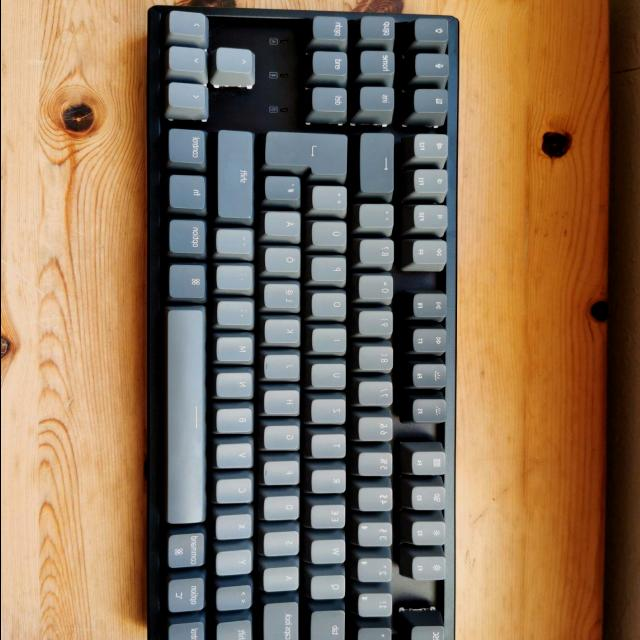0: (359, 275, 396, 303)
1: (359, 594, 395, 619)
2: (358, 559, 394, 585)
3: (359, 523, 395, 549)
4: (360, 488, 395, 513)
5: (359, 453, 395, 478)
6: (360, 417, 396, 443)
7: (359, 381, 395, 407)
8: (360, 347, 396, 373)
9: (360, 311, 396, 339)
a: (264, 568, 302, 594)
accent: (361, 205, 397, 231)
ae: (266, 213, 304, 240)
alt-left: (168, 577, 207, 615)
altgr-right: (167, 217, 206, 255)
b: (218, 409, 256, 436)
c: (218, 480, 256, 506)
caret: (359, 629, 394, 640)
comma: (218, 302, 257, 330)
d: (265, 497, 303, 523)
del: (361, 135, 397, 197)
e: (312, 505, 349, 531)
enter: (266, 133, 352, 179)
f: (265, 462, 303, 487)
g: (265, 426, 303, 452)
h: (265, 390, 303, 418)
hash: (266, 178, 304, 204)
i: (313, 329, 350, 356)
j: (265, 355, 303, 383)
k: (265, 319, 303, 347)
keyboard: (140, 2, 463, 640)
l: (264, 284, 303, 312)
less: (218, 586, 255, 613)
m: (217, 337, 256, 365)
minus: (217, 231, 257, 259)
n: (218, 373, 256, 401)
o: (312, 293, 350, 321)
oe: (266, 248, 304, 276)
p: (312, 258, 350, 286)
plus: (313, 187, 351, 215)
point: (218, 266, 256, 294)
q: (312, 576, 349, 602)
r: (313, 471, 349, 495)
s: (265, 532, 302, 558)
shift-left: (218, 621, 255, 640)
shift-lock: (264, 603, 302, 640)
shift-right: (219, 131, 257, 226)
space: (167, 309, 209, 529)
ss: (361, 240, 397, 268)
strg-left: (170, 622, 208, 640)
strg-right: (170, 129, 208, 169)
t: (312, 435, 349, 461)
tab: (312, 611, 348, 640)
u: (312, 364, 350, 391)
ue: (312, 222, 350, 250)
v: (218, 444, 256, 470)
w: (312, 541, 349, 567)
x: (217, 515, 255, 541)
y: (217, 550, 255, 577)
z: (312, 400, 349, 426)
